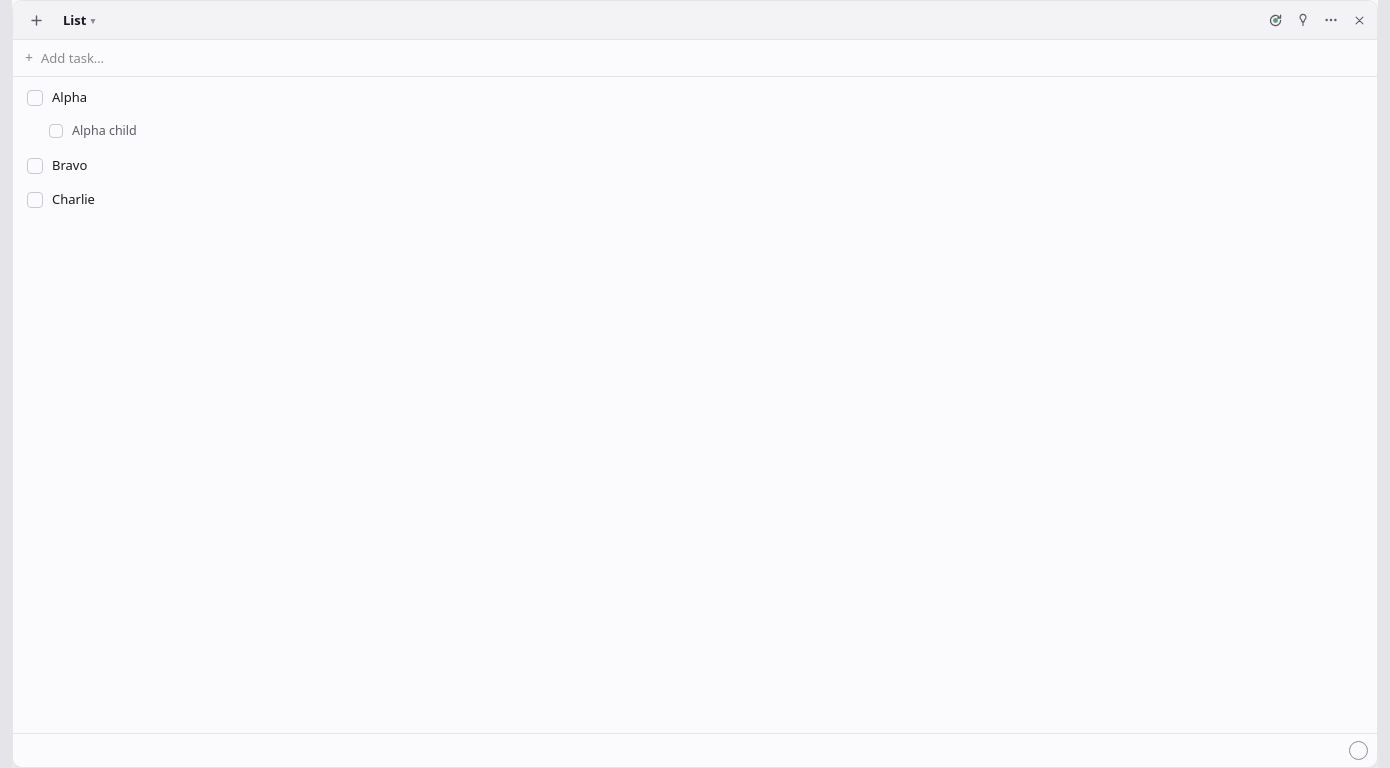
TaskWidget group delete › keeps the selection when Escape cancels the question
Click the text "Bravo": (70, 165) [52,156,87,174]
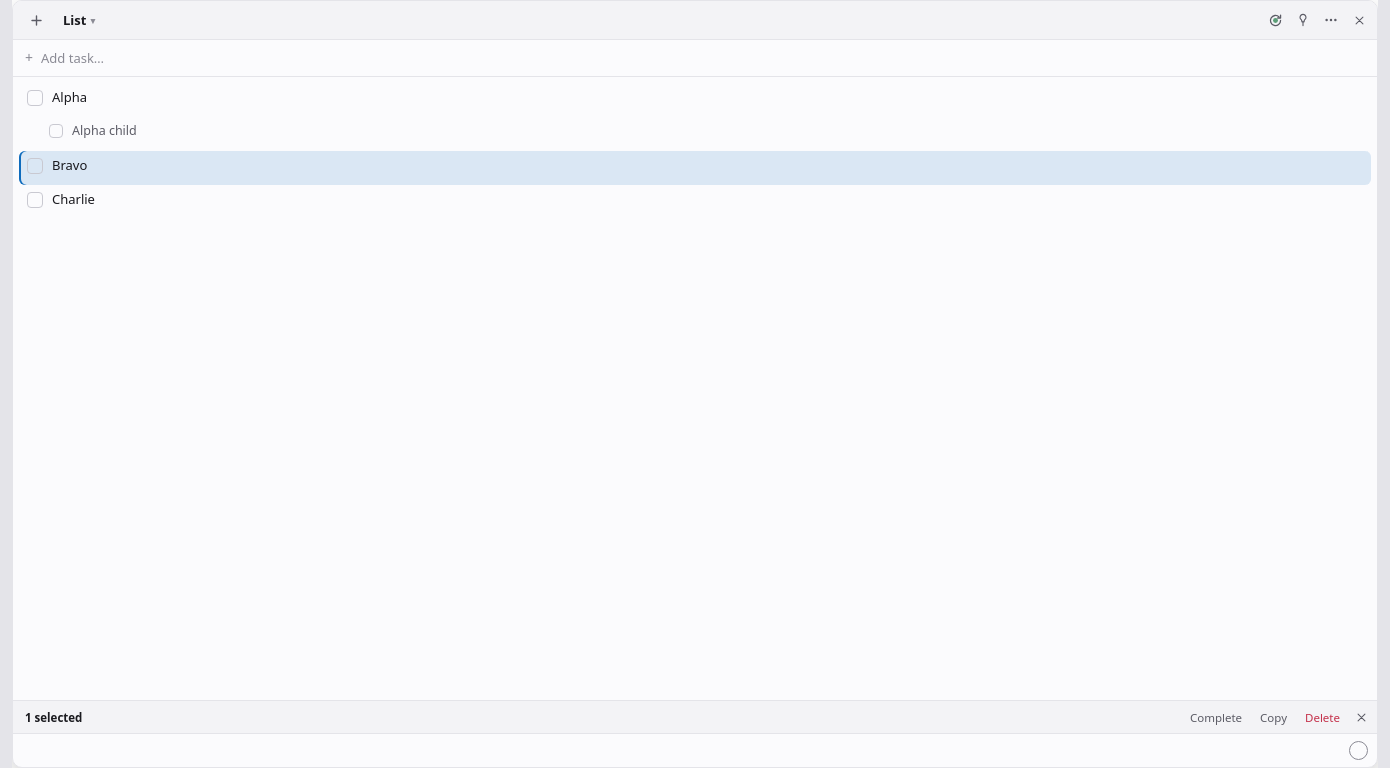
Click the text "Charlie": (74, 199) [52,190,95,208]
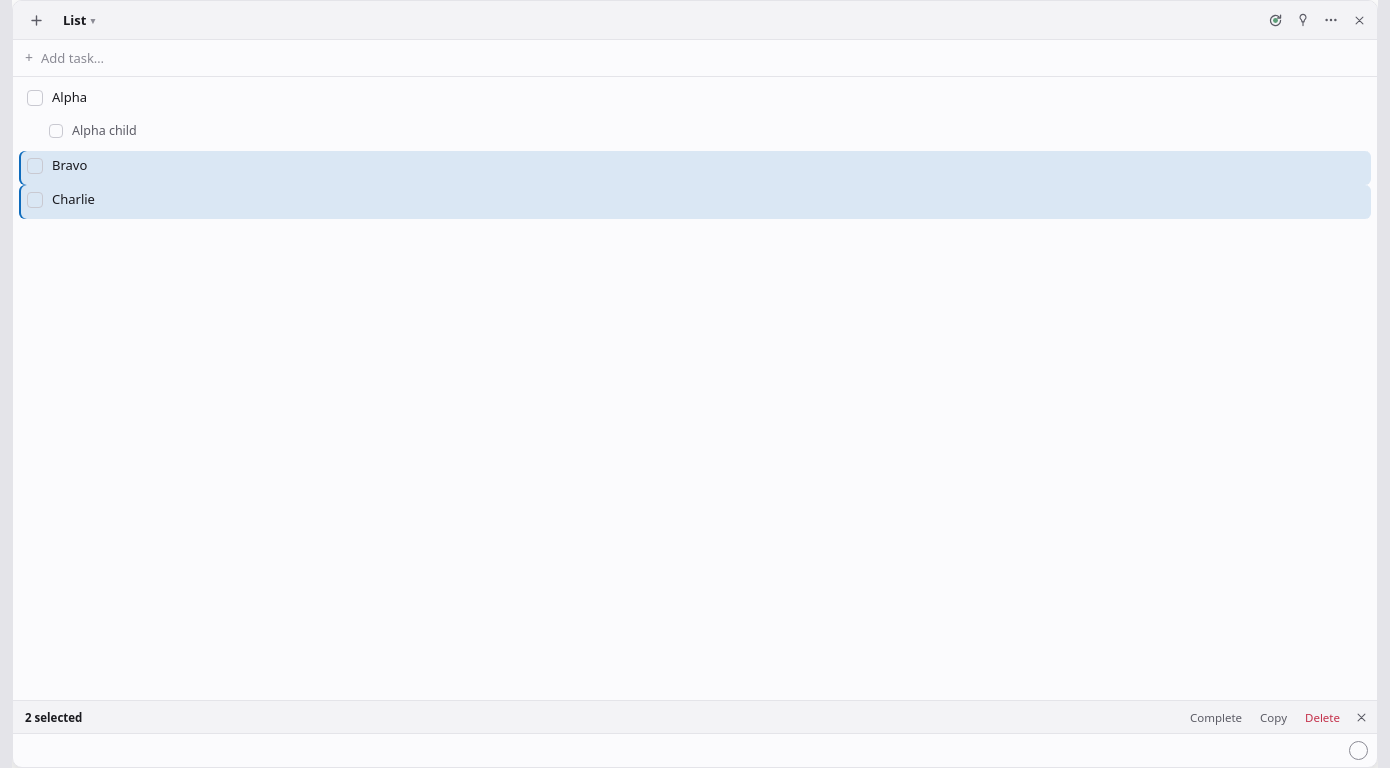
Press Delete
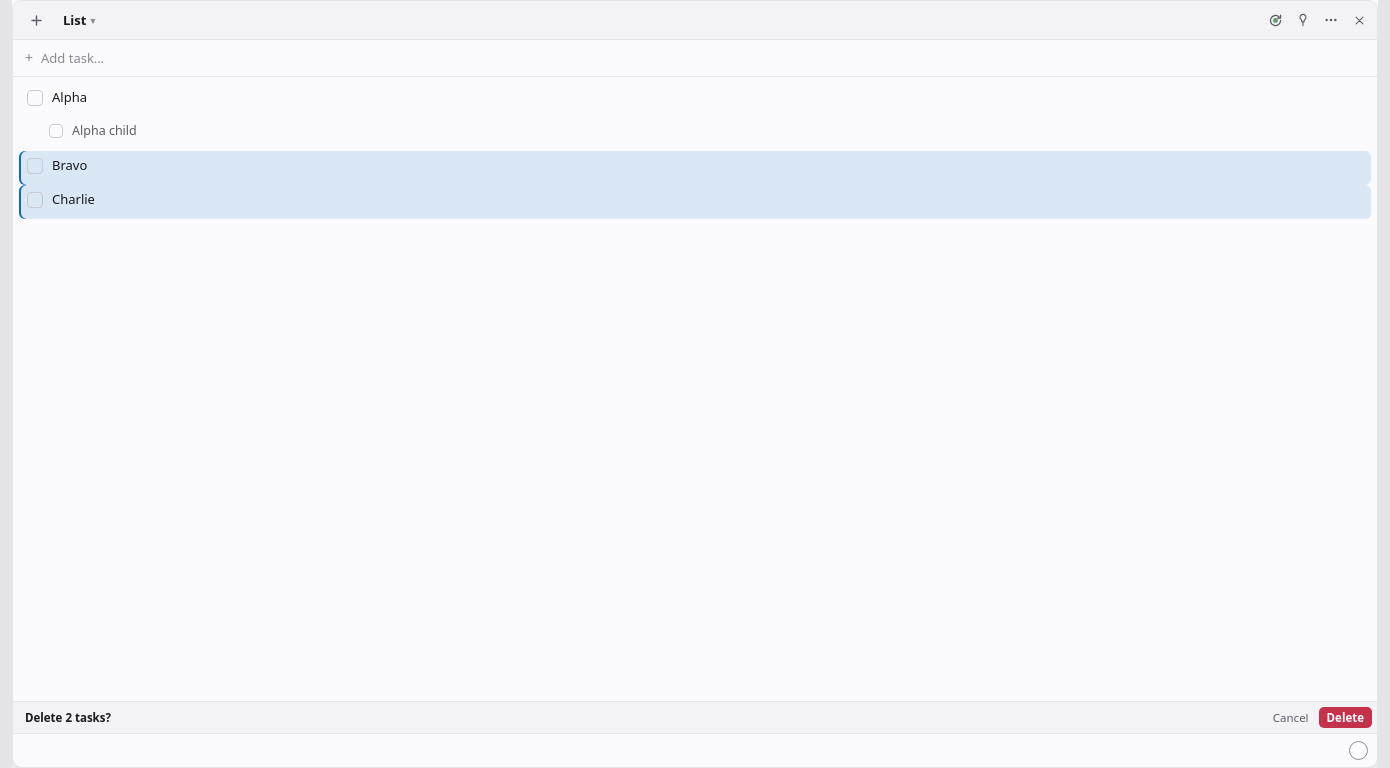
Press Escape
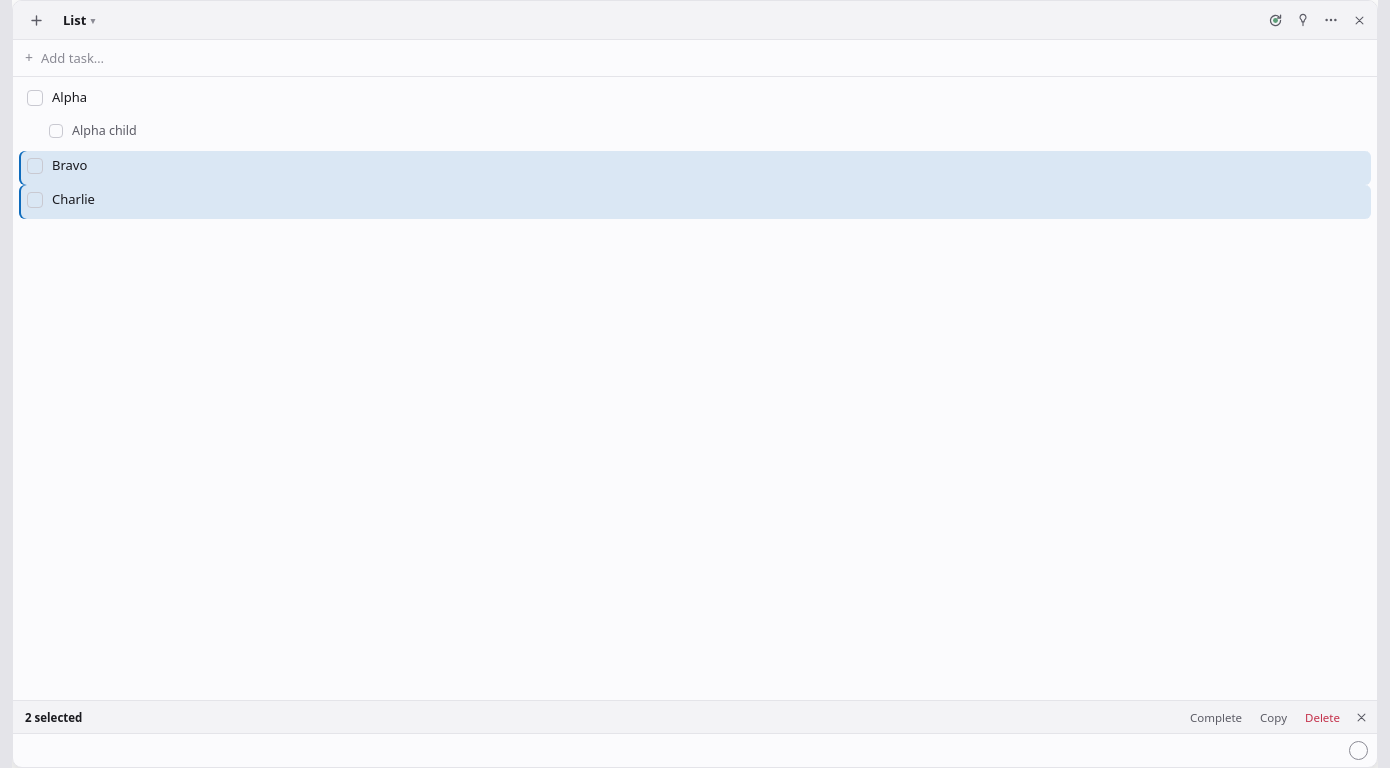
Now the text "2 selected" is shown, box [25,710,82,724]
